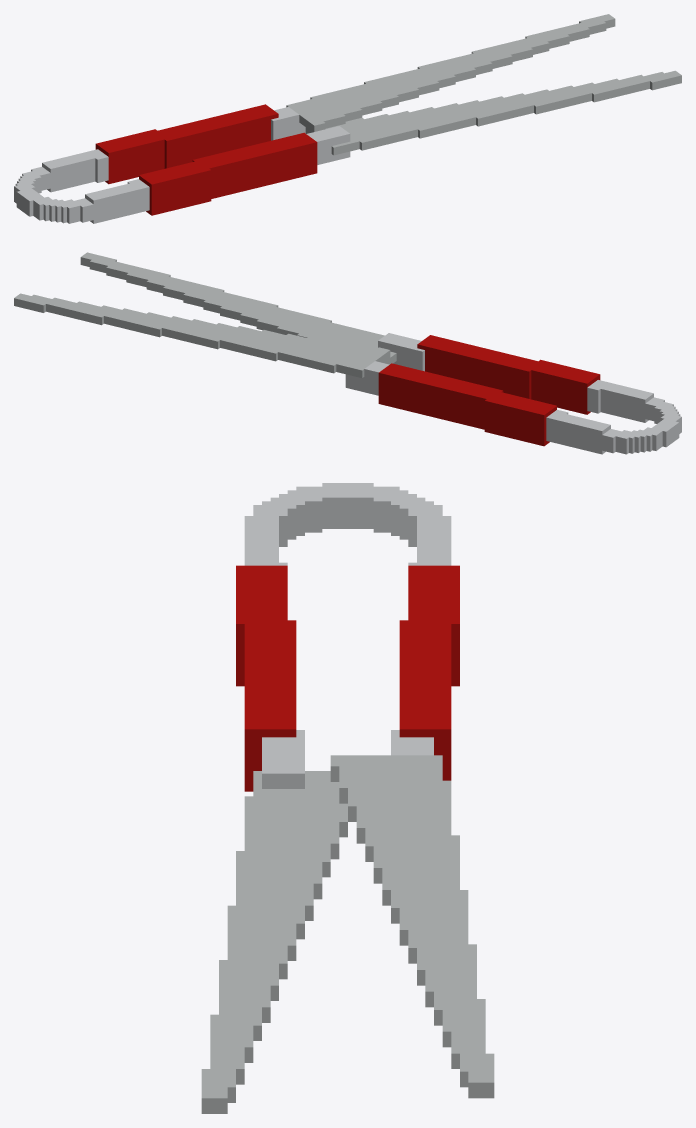
The model's file is shears.glb.
The picture shows the model from 3 angles, top to bottom: view 1: azimuth 30°, elevation 25°; view 2: azimuth 150°, elevation 25°; view 3: azimuth 270°, elevation 25°; orthographic projection. The views are drawn at different scales.
Parts seen in each view (by area): view 1: shears:compound; view 2: shears:compound; view 3: shears:compound.
Boxes of the visible parts, x1,y1,x2,y2 form: shears:compound: (14, 14, 681, 223); shears:compound: (14, 252, 681, 454); shears:compound: (201, 483, 494, 1113).
Size of the model in its own units: 0.334 by 0.016 by 0.068.
